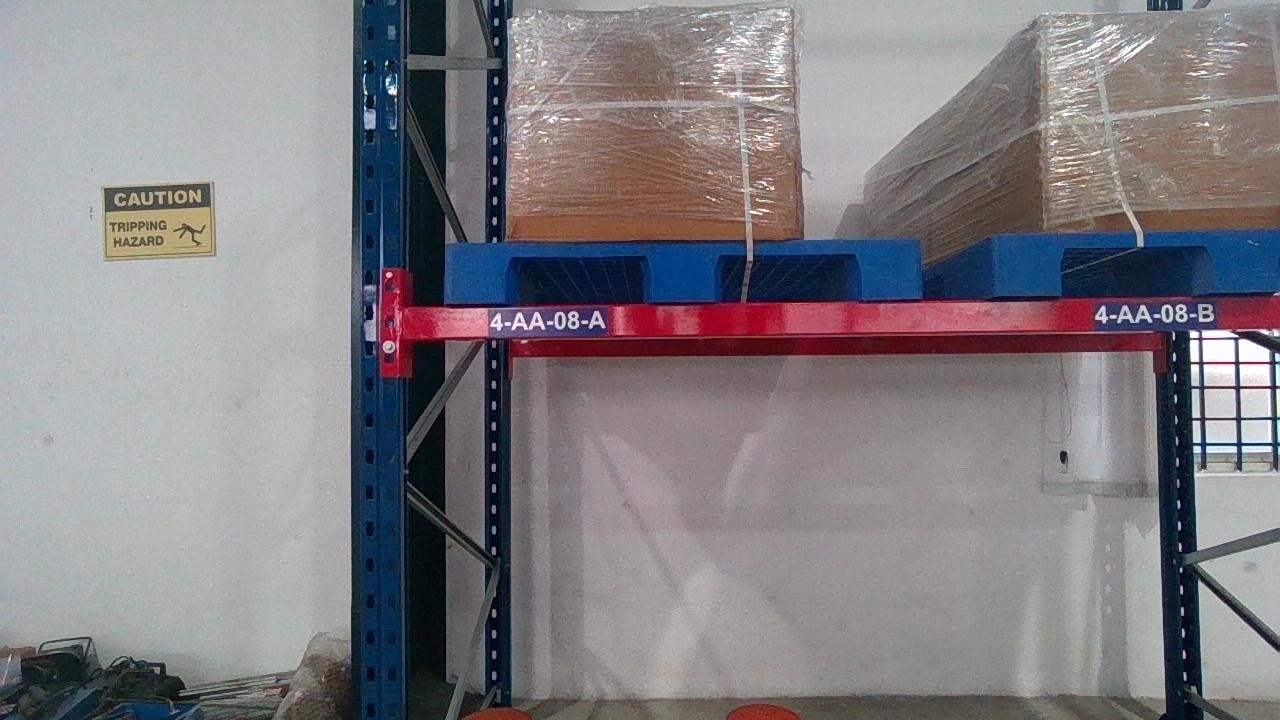h_rack: (406, 296, 1278, 335)
small_pallet: (440, 239, 920, 298), (996, 227, 1277, 289)
